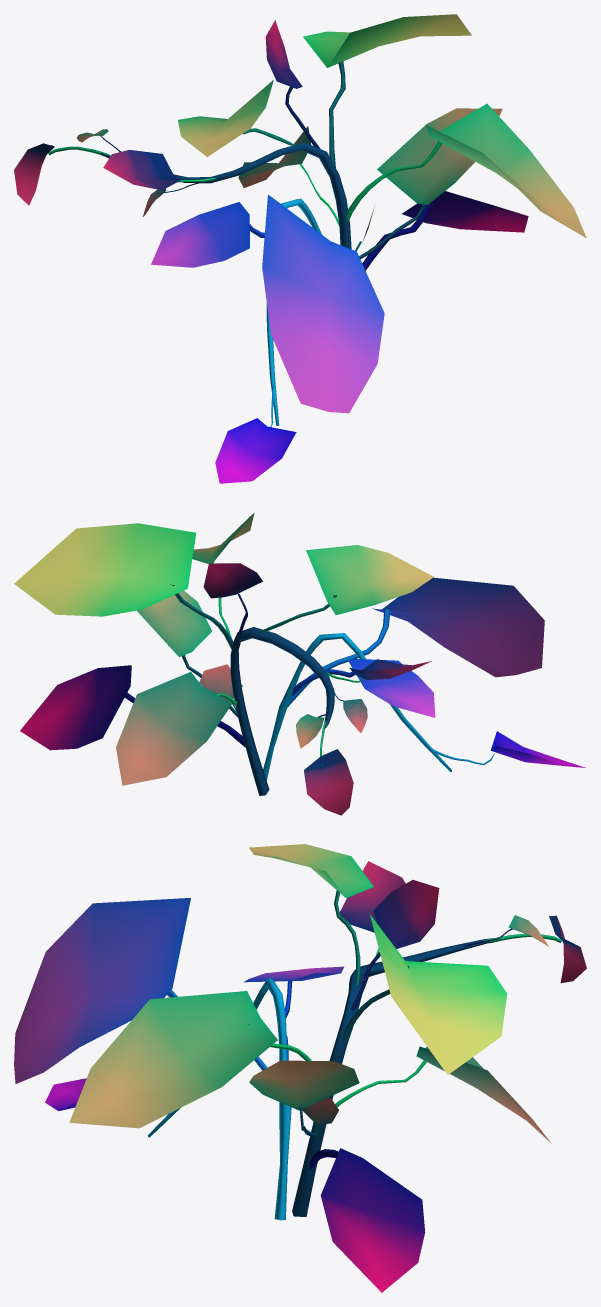
Rendered from Money_Plant_uchmfdyia_Low_uchmfdyia_VarF_LOD0.fbx.
3 views of the same model, one above another, from view 1: azimuth 30°, elevation 25°; view 2: azimuth 150°, elevation 25°; view 3: azimuth 270°, elevation 25° (orthographic). The views are drawn at different scales.
Parts seen in each view (by area): view 1: _20b7_VarF_LOD1; view 2: _20b7_VarF_LOD1; view 3: _20b7_VarF_LOD1.
Boxes of the visible parts, x1,y1,x2,y2 form: _20b7_VarF_LOD1: [14, 14, 586, 483]; _20b7_VarF_LOD1: [14, 512, 585, 815]; _20b7_VarF_LOD1: [14, 844, 586, 1292].
Size of the model in its own units: 18.62 by 11.4 by 18.16.
